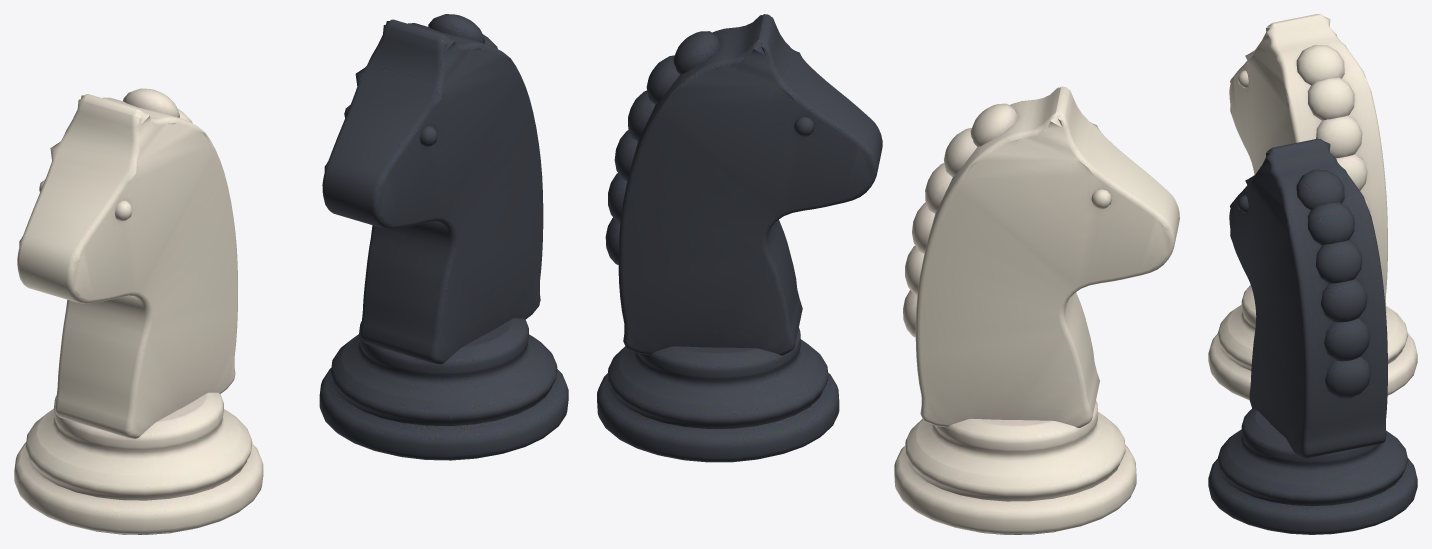
Rendered from chess_knight.glb.
The picture shows the model from 3 angles, left to right: view 1: azimuth 30°, elevation 25°; view 2: azimuth 150°, elevation 25°; view 3: azimuth 270°, elevation 25°; orthographic projection. The views are drawn at different scales.
Parts seen in each view (by area): view 1: chess-knight_body; view 2: chess-knight_body; view 3: chess-knight_body.
Part boxes in pixels (x1,y1,x2,y2): chess-knight_body: (14,14,568,534); chess-knight_body: (597,14,1179,534); chess-knight_body: (1208,14,1417,534).
Bounding box in the file's own units: 0.0873 × 0.0605 × 0.034.
1 material, 1 textured.
